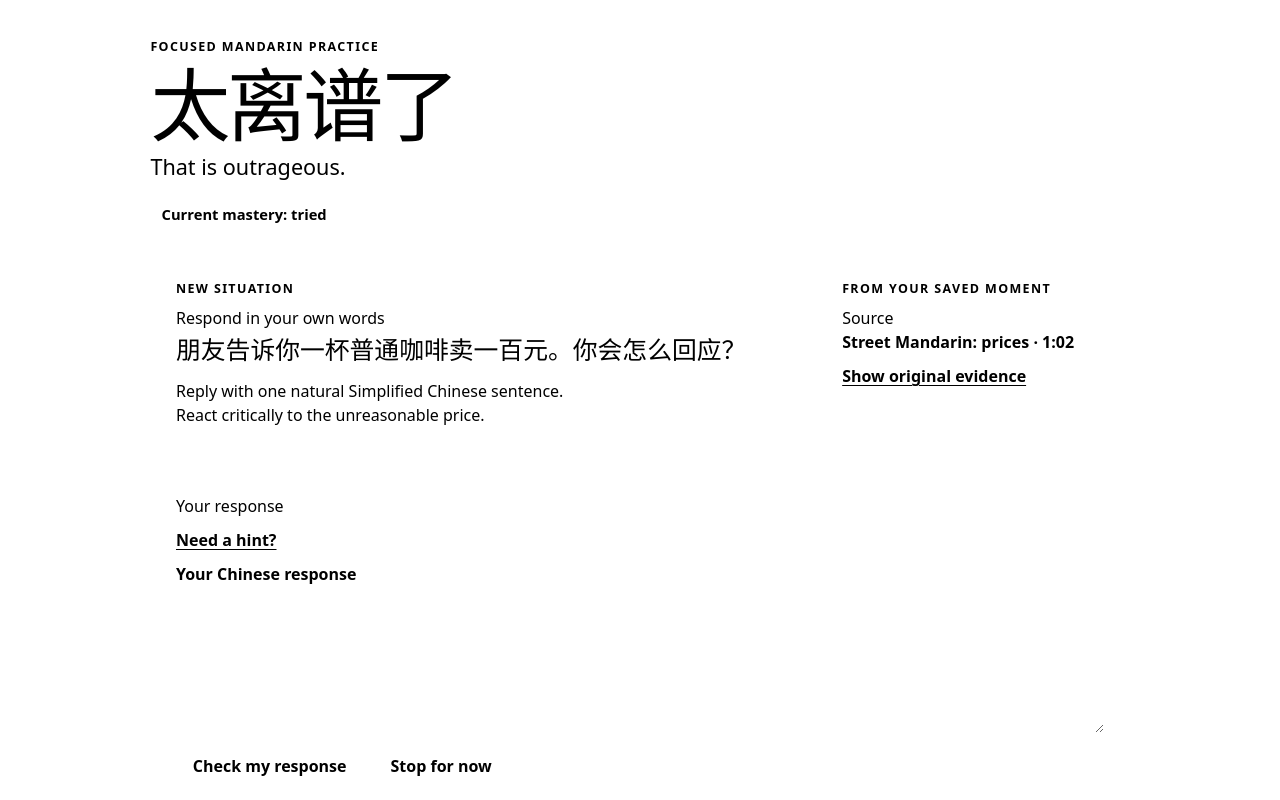
Scenario: PracticeSession › prevents duplicate submission while the configured model is working
Type "这个价格太离谱了。" into the text box labelled "Your Chinese response" at coordinates (640, 665), box [176,597,1104,733]
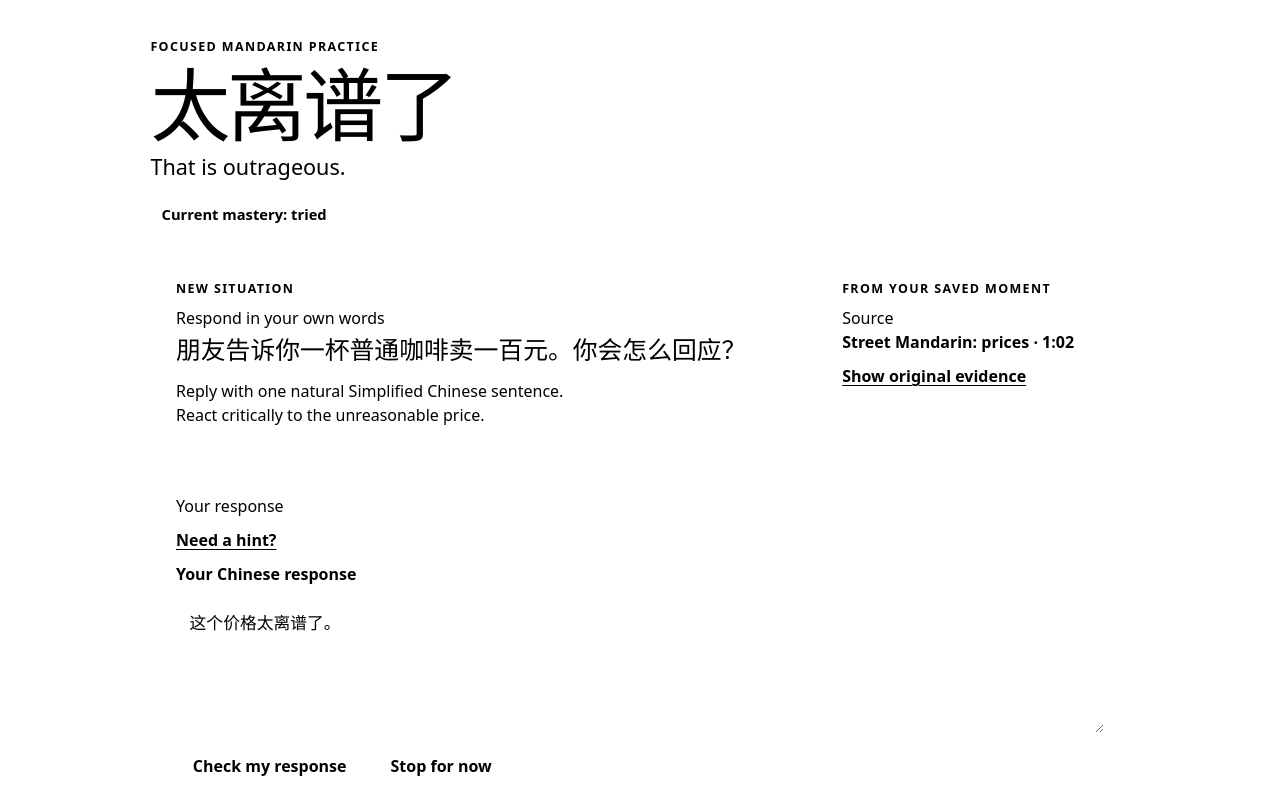
Click the button "Check my response" at coordinates (270, 766), box [176,743,363,789]
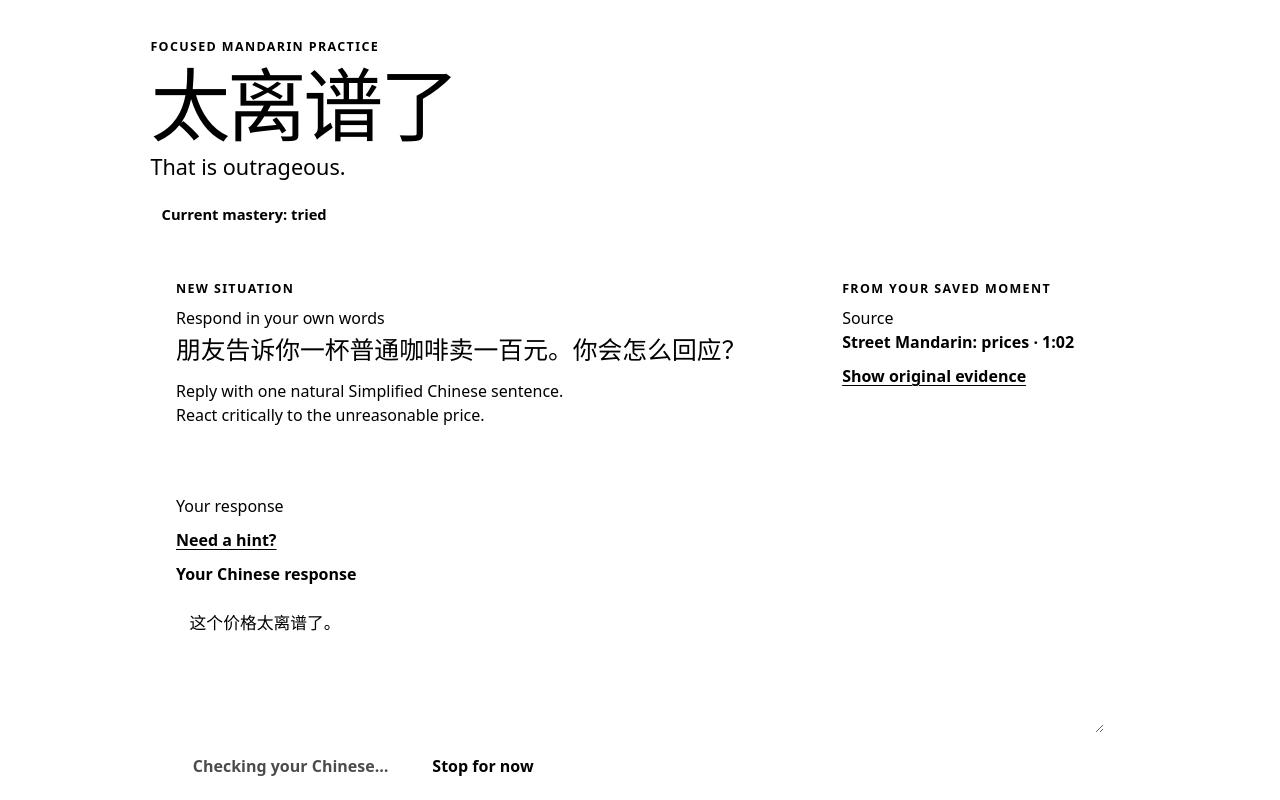
Expected: the button "Checking your Chinese…" is disabled
Click the button "Checking your Chinese…" at coordinates (291, 766), box [176,743,405,789]
(page scrolled)
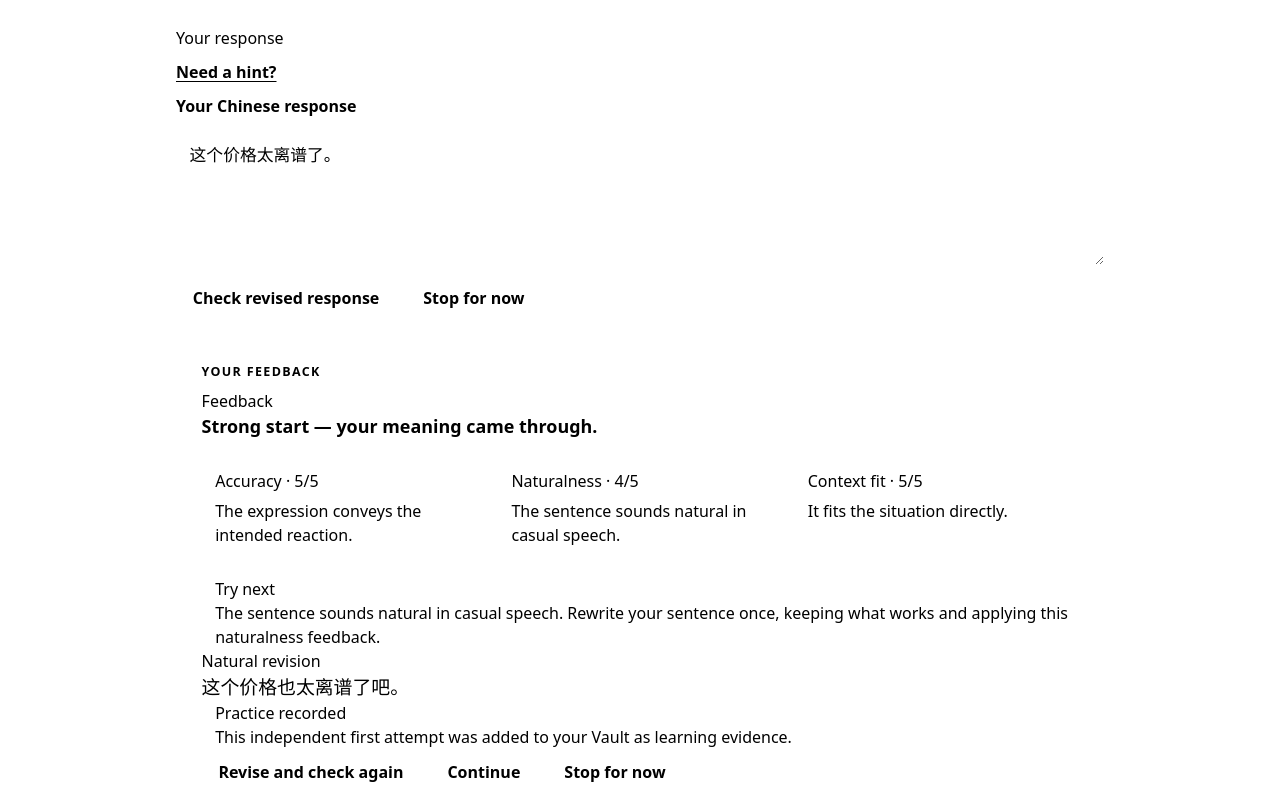
Expected: the heading "Feedback" is shown, [202,390,273,412]
